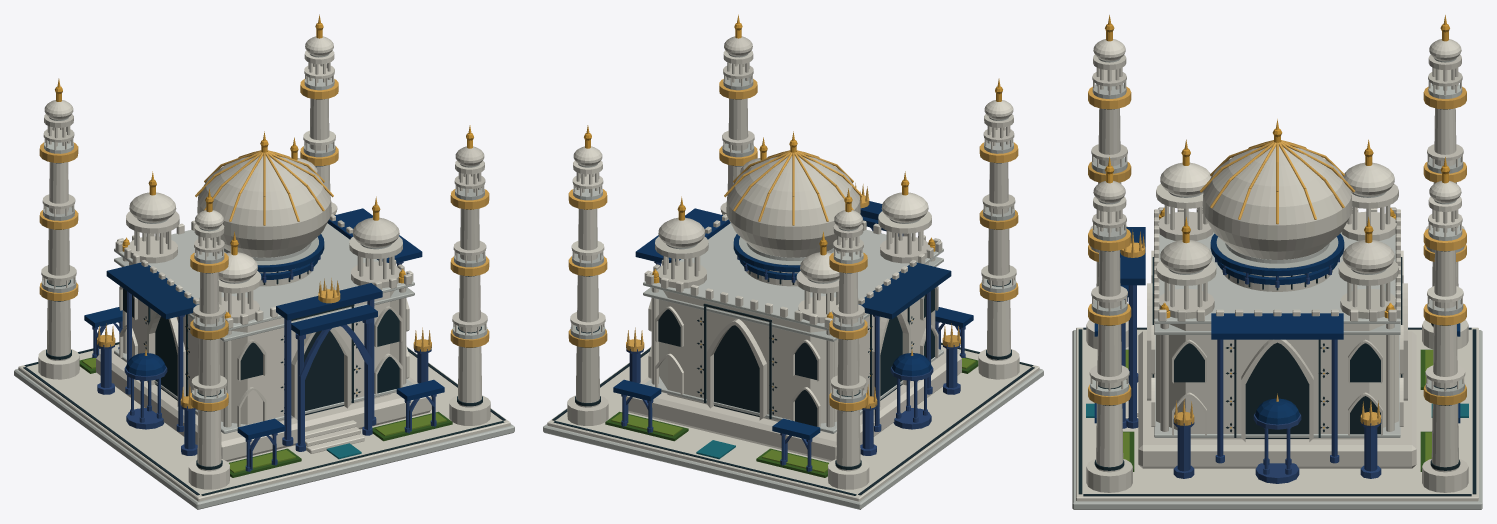
3 views of the same model, side by side, from view 1: azimuth 30°, elevation 25°; view 2: azimuth 150°, elevation 25°; view 3: azimuth 270°, elevation 25° (orthographic). The views are drawn at different scales.
Parts seen in each view (by area): view 1: fort_L10_0, fort_L10_1; view 2: fort_L10_0, fort_L10_1; view 3: fort_L10_0, fort_L10_1.
Part boxes in pixels (x1,y1,x2,y2): fort_L10_0: [14, 23, 514, 509]; fort_L10_1: [39, 14, 489, 411]; fort_L10_0: [543, 23, 1043, 509]; fort_L10_1: [568, 14, 1018, 411]; fort_L10_0: [1072, 24, 1482, 509]; fort_L10_1: [1088, 15, 1466, 428].
Bounding box in the file's own units: 7.6 × 6.93 × 7.6.
